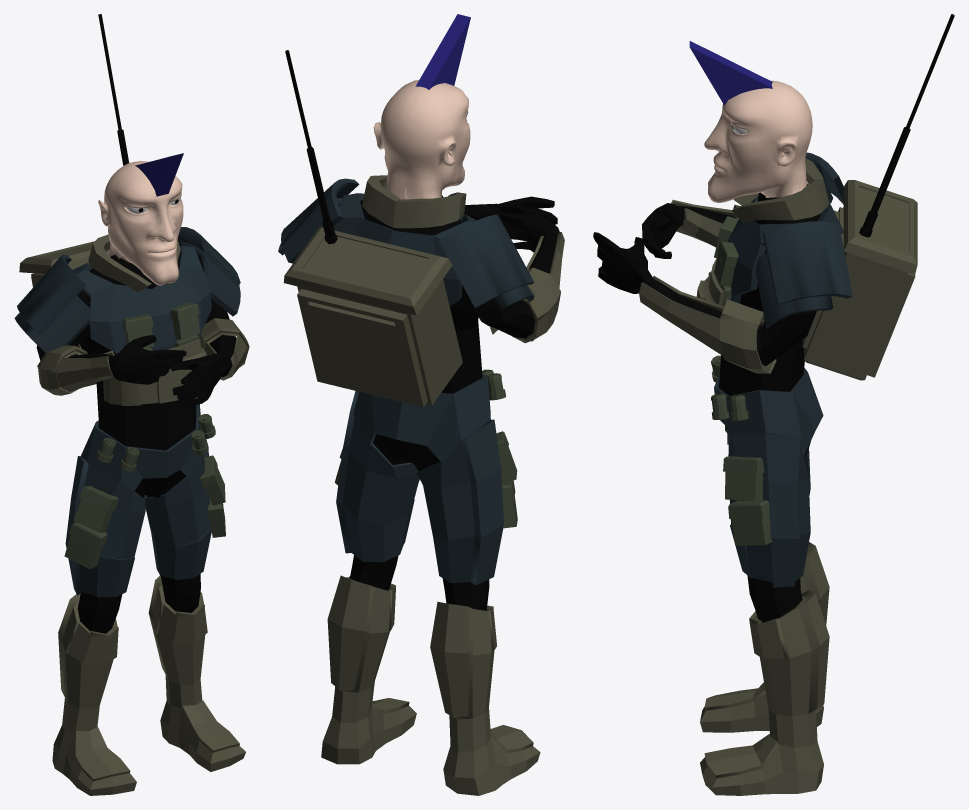
The model's file is soldierNoGun (2).fbx.
3 renders of one model, left to right at view 1: azimuth 30°, elevation 25°; view 2: azimuth 150°, elevation 25°; view 3: azimuth 270°, elevation 25°, orthographic. The views are drawn at different scales.
Parts seen in each view (by area): view 1: base, boots, thighs, chest, shoulderplate.001, wrist, waist, bags, chest plate, shoulderplate, bags.002, neck collar (+4 smaller); view 2: boots, backpack, base, thighs, waist, shoulderplate.001, neck collar, chest, wrist, shoulderplate, wire, bags; view 3: base, boots, backpack, thighs, shoulderplate, wrist, waist, bags.001, neck collar, chest, wire, bags.002 (+3 smaller).
Part boxes in pixels (box(x1,y1,x2,y2)): base: box(36, 153, 236, 633); boots: box(52, 576, 245, 795); thighs: box(65, 438, 211, 597); chest: box(72, 246, 211, 354); shoulderplate.001: box(14, 254, 90, 352); wrist: box(37, 318, 249, 395); waist: box(81, 404, 202, 491); bags: box(64, 485, 118, 569); chest plate: box(103, 339, 206, 405); shoulderplate: box(177, 227, 240, 316); bags.002: box(122, 302, 199, 350); neck collar: box(88, 234, 180, 291); boots: box(321, 575, 540, 795); backpack: box(283, 227, 462, 407); base: box(338, 14, 559, 610); thighs: box(336, 391, 503, 585); waist: box(353, 375, 490, 463); shoulderplate.001: box(438, 214, 534, 308); neck collar: box(362, 175, 466, 228); chest: box(333, 193, 476, 305); wrist: box(512, 232, 564, 343); shoulderplate: box(278, 178, 359, 263); wire: box(285, 50, 337, 244); bags: box(496, 431, 517, 528); base: box(593, 41, 821, 622); boots: box(700, 542, 829, 795); backpack: box(802, 180, 917, 380); thighs: box(728, 433, 810, 587); shoulderplate: box(755, 221, 852, 327); wrist: box(639, 200, 776, 373); waist: box(714, 368, 823, 455); bags.001: box(723, 456, 772, 545); neck collar: box(732, 158, 828, 222); chest: box(727, 195, 843, 303); wire: box(859, 14, 954, 237); bags.002: box(714, 216, 738, 306).
Bounding box in the file's own units: 180 × 546 × 235.
